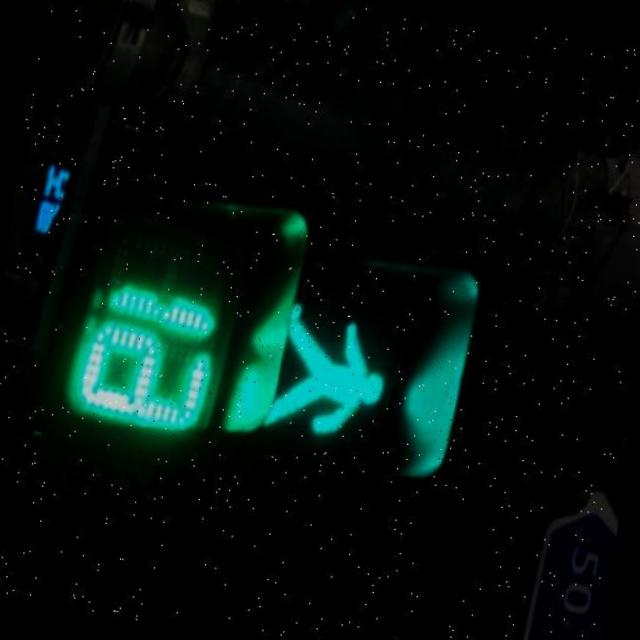green_light: (45, 182, 438, 508)
